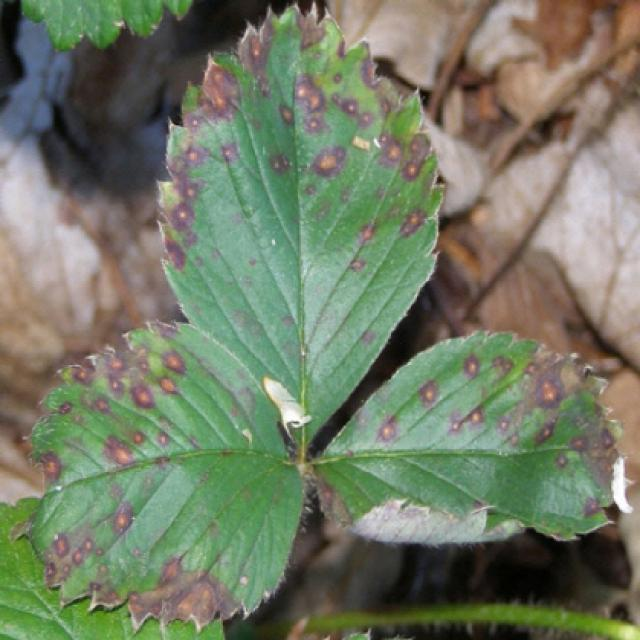Leaf Spot: (155, 0, 446, 455), (7, 319, 306, 638), (312, 329, 636, 544)
